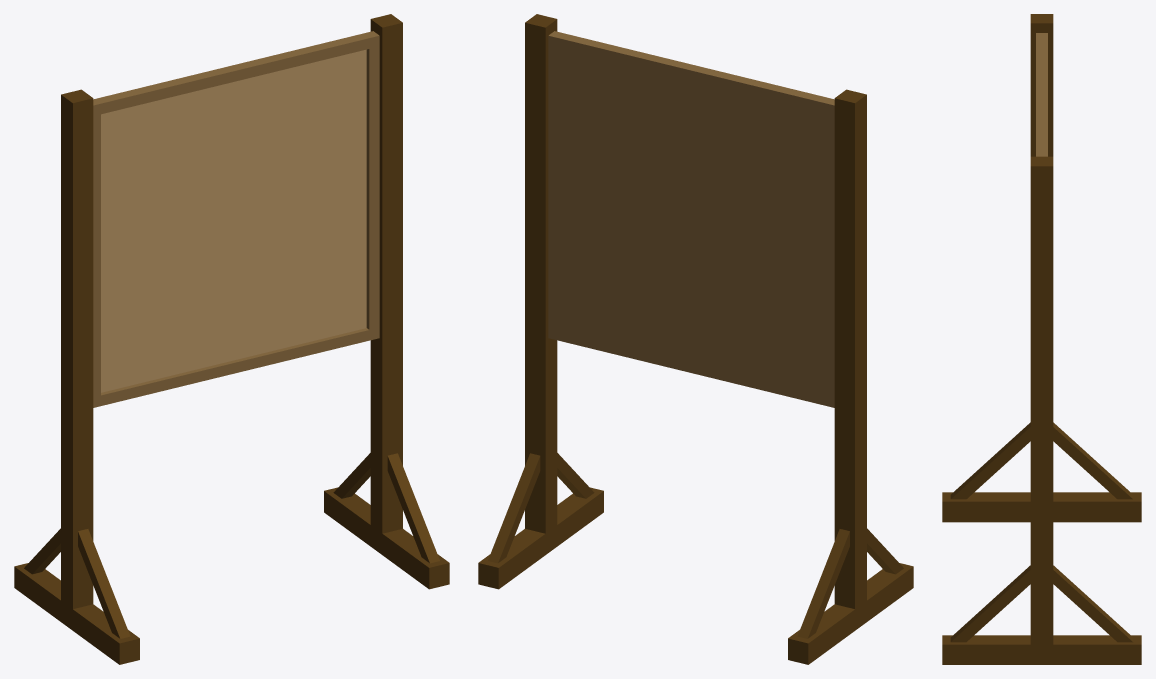
The model's file is MapBoard.fbx.
3 renders of one model, left to right at view 1: azimuth 30°, elevation 25°; view 2: azimuth 150°, elevation 25°; view 3: azimuth 270°, elevation 25°, orthographic. The views are drawn at different scales.
Parts seen in each view (by area): view 1: MapBoard; view 2: MapBoard; view 3: MapBoard.
Part boxes in pixels (left/top/right/bottom): MapBoard: left=14, top=14, right=449, bottom=664; MapBoard: left=478, top=14, right=913, bottom=664; MapBoard: left=942, top=14, right=1141, bottom=664.
Size of the model in its own units: 111 by 170 by 61.5.
